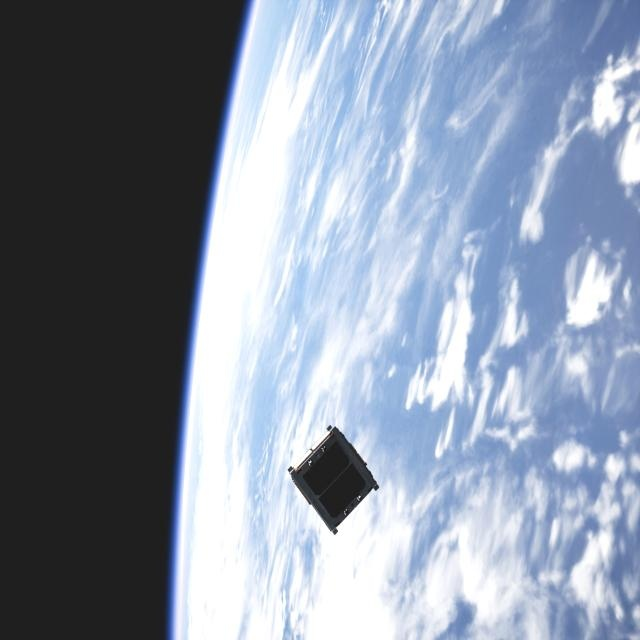satellite: (291, 429, 385, 532)
